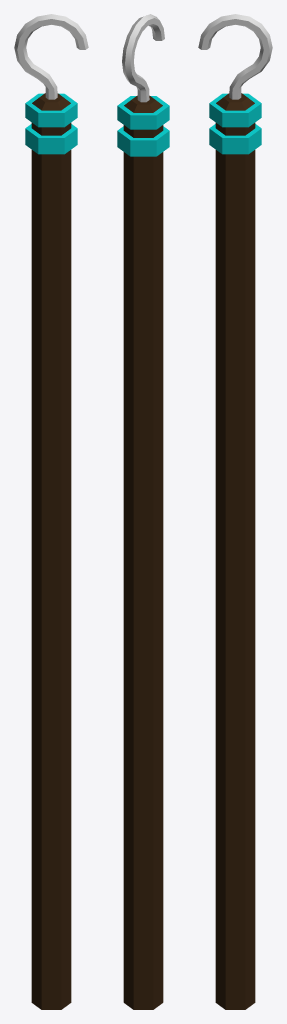
File: hook stick fbx.fbx
The picture shows the model from 3 angles, left to right: view 1: azimuth 90°, elevation 25°; view 2: azimuth 150°, elevation 25°; view 3: azimuth 270°, elevation 25°; orthographic projection.
Visible parts, largest first — view 1: hook:pCylinder1, hook:pTorus1; view 2: hook:pCylinder1, hook:pTorus1; view 3: hook:pCylinder1, hook:pTorus1.
Boxes of the visible parts, left/top/right/bottom form: hook:pCylinder1: left=25, top=93, right=77, bottom=1009; hook:pTorus1: left=14, top=14, right=88, bottom=99; hook:pCylinder1: left=117, top=95, right=169, bottom=1009; hook:pTorus1: left=122, top=14, right=164, bottom=102; hook:pCylinder1: left=209, top=93, right=261, bottom=1009; hook:pTorus1: left=198, top=14, right=272, bottom=99.
Bounding box in the file's own units: 0.8036 × 19.31 × 1.32.
